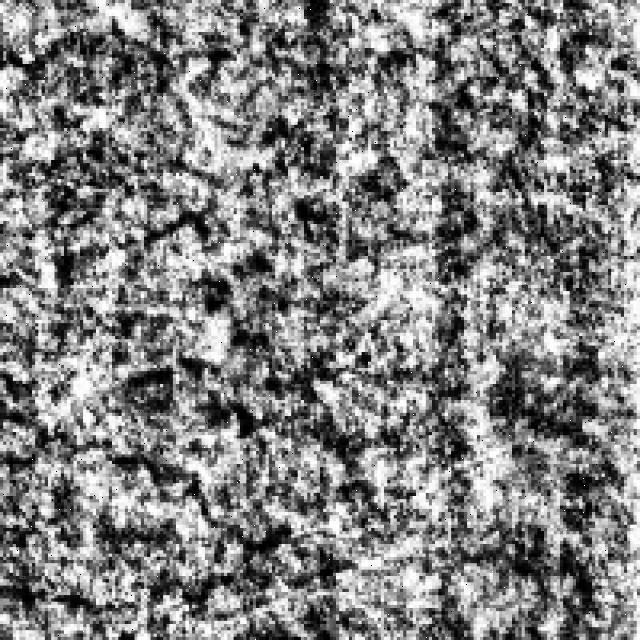Pitted_Surface: (42, 208, 288, 554), (20, 16, 246, 323)
